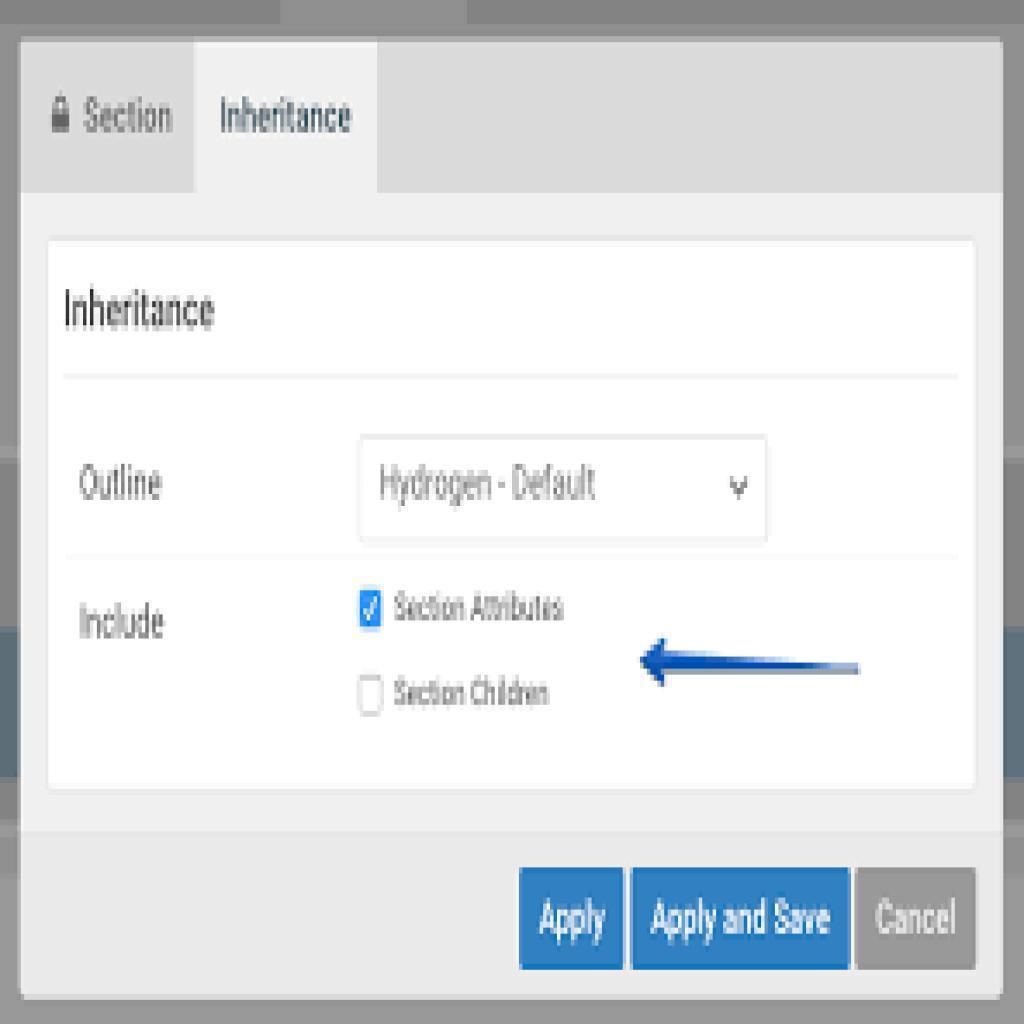button: (631, 869, 851, 973), (857, 867, 976, 970), (517, 866, 626, 967)
checkbox: (360, 675, 385, 717), (362, 589, 386, 632)
dropdown: (361, 437, 770, 543)
label: (391, 585, 568, 628), (385, 676, 556, 714)
